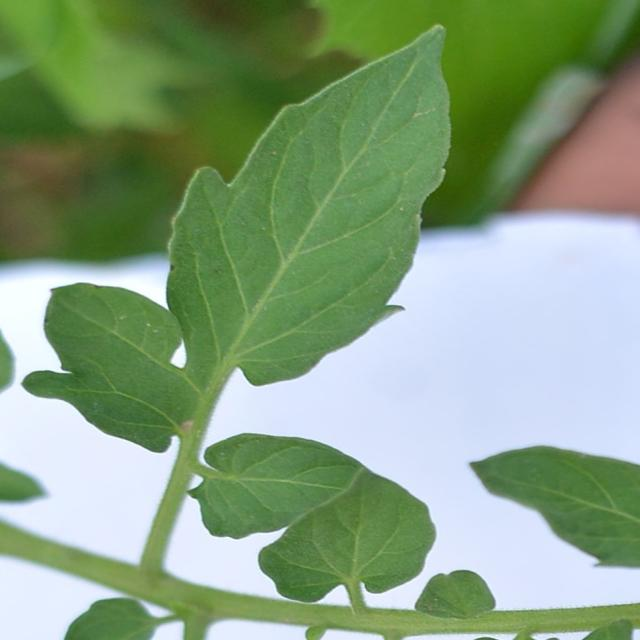healthy: (123, 21, 470, 388), (201, 433, 442, 604), (13, 269, 200, 455), (462, 436, 640, 577)
